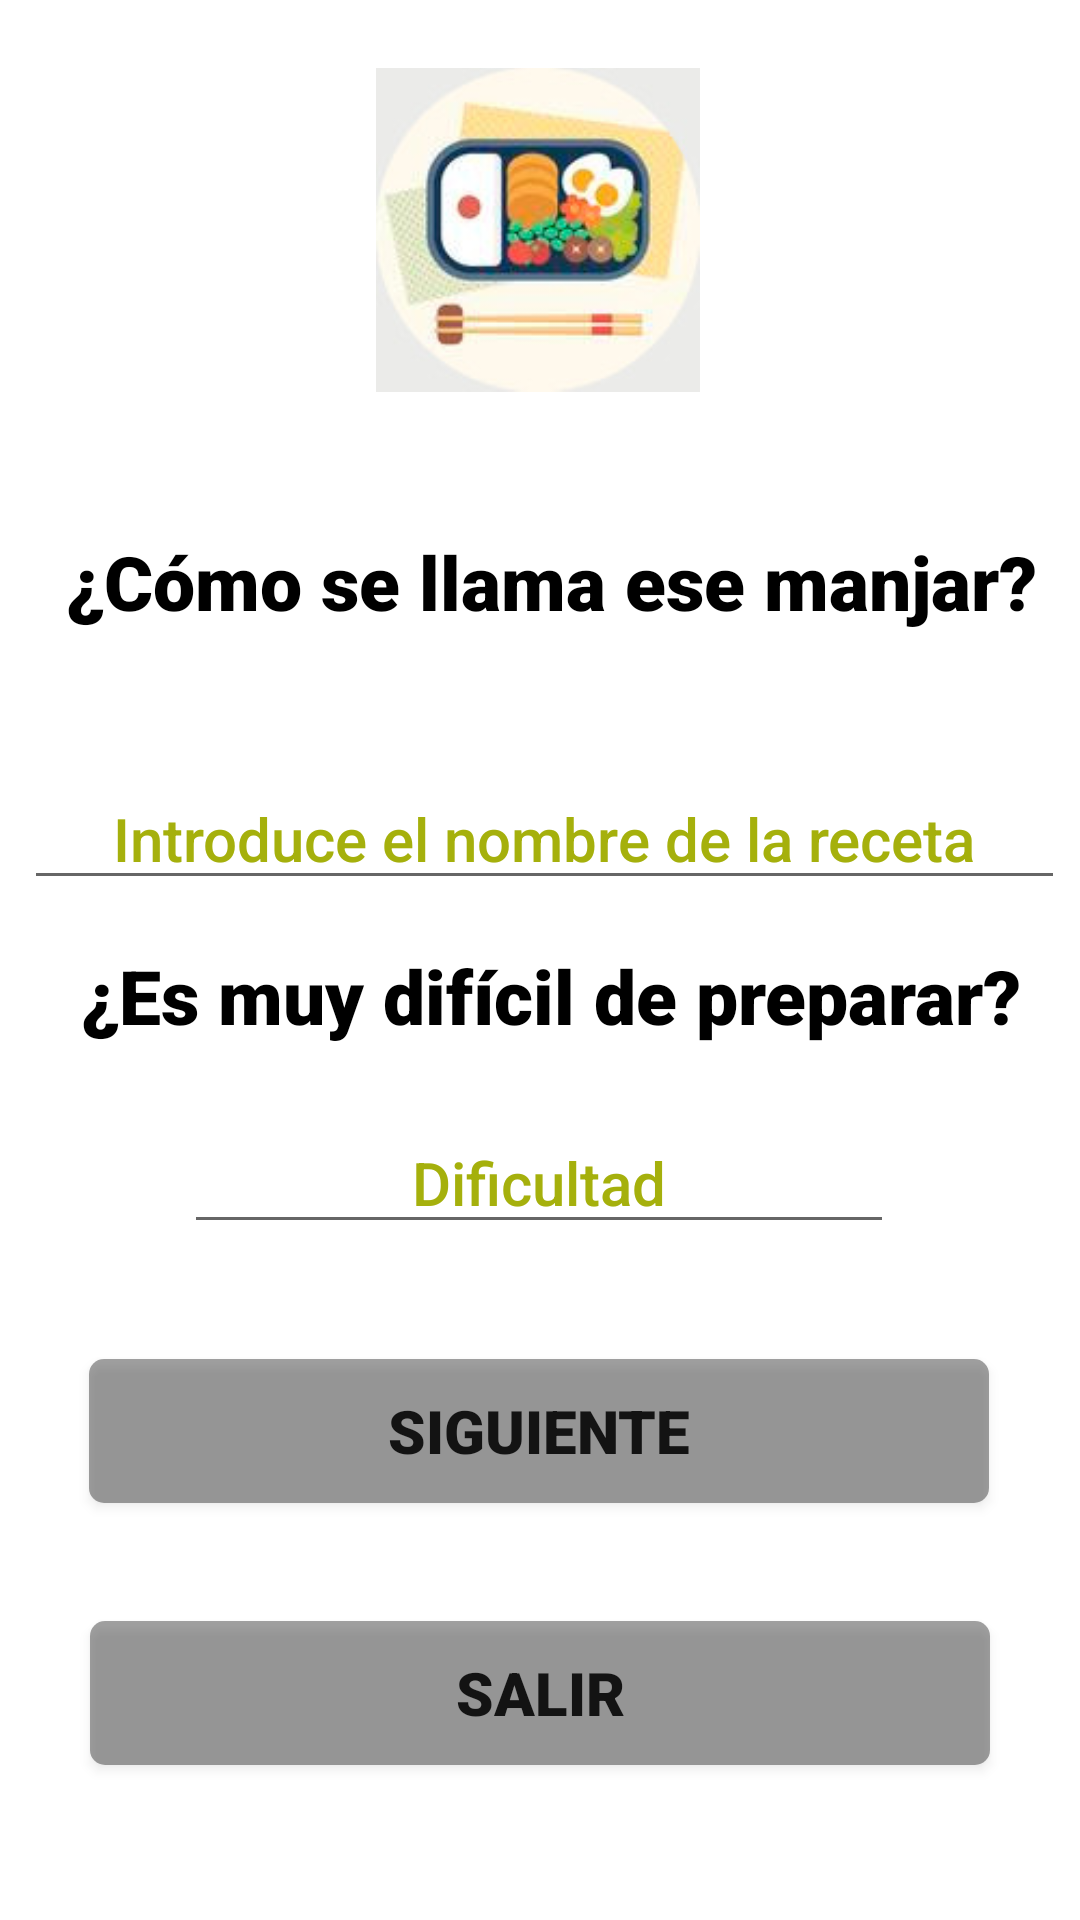

Named icons in this screenshot (1080 × 1920) and their bounding boxes, region(x1, y1, x2, y2):
obentorg: region(376, 68, 700, 392)
